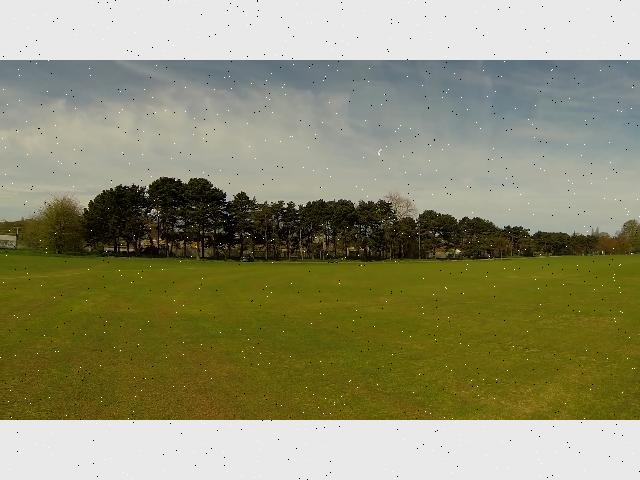Anti-Drone: (375, 145, 387, 158)
